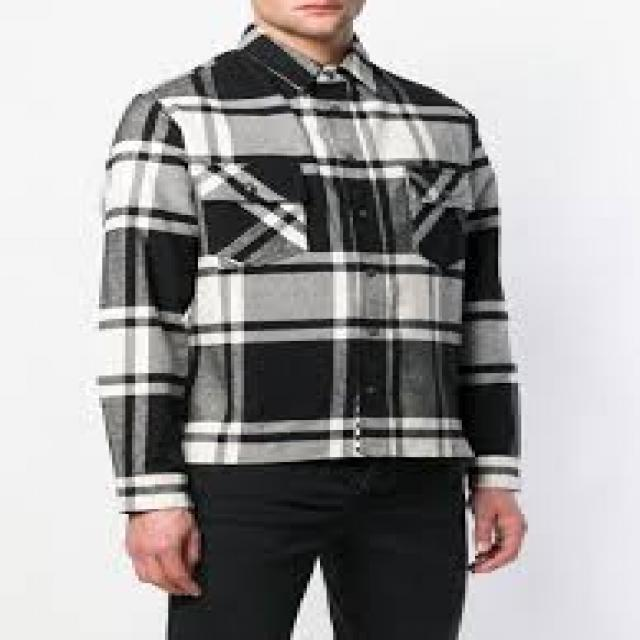plaid: (93, 18, 527, 504)
